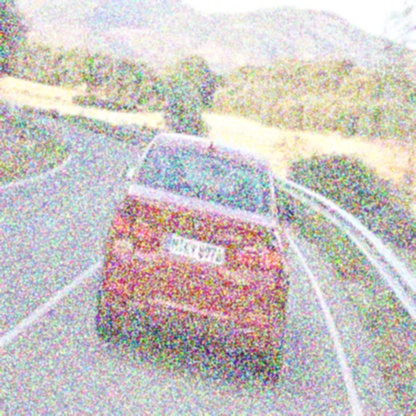Vehicle: (93, 129, 294, 385)
